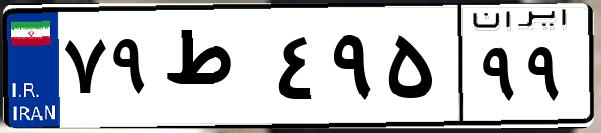4: (270, 28, 330, 110)
5: (385, 28, 445, 110)
7: (57, 26, 110, 100)
9: (330, 28, 385, 110), (475, 38, 525, 113), (525, 38, 570, 115), (110, 28, 158, 98)
ط: (158, 20, 270, 120)
